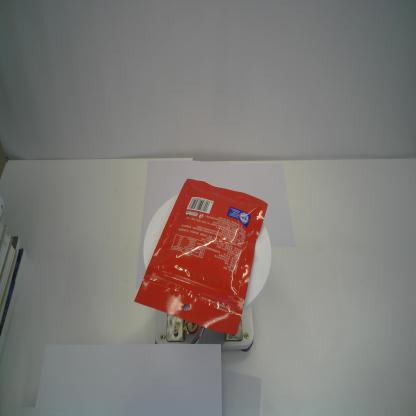Dried Fruit: (132, 177, 270, 337)
